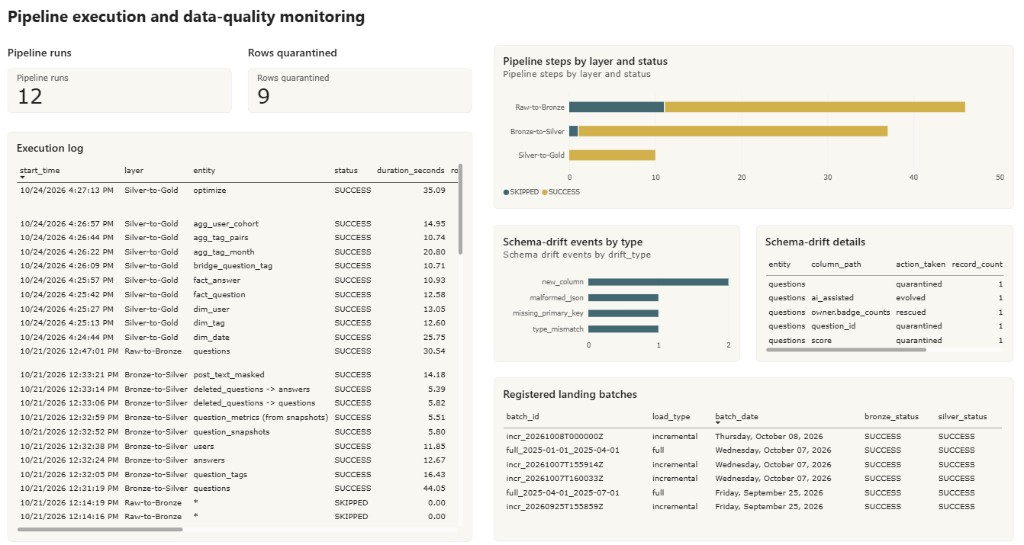

The page's visual inventory and layout, read from the dashboard file:
{"tool":"powerbi","page":{"name":"Audit","canvas":[1920,1080],"ordinal":4},"visuals":[{"type":"textbox","box":[40,18,1840,58],"z":1},{"type":"cardVisual","title":"Pipeline runs","fields":{"Data":["Measures (2).Pipeline runs"]},"box":[40,90,410,125],"z":2},{"type":"cardVisual","title":"Rows quarantined","fields":{"Data":["Measures (2).Rows quarantined"]},"box":[480,90,410,125],"z":3},{"type":"barChart","title":"Pipeline steps by layer and status","fields":{"Category":["pipeline_execution_logs.layer"],"Series":["pipeline_execution_logs.status"],"Y":["Measures (2).Pipeline steps"]},"box":[930,90,950,300],"z":4},{"type":"tableEx","title":"Execution log","fields":{"Values":["pipeline_execution_logs.start_time","pipeline_execution_logs.layer","pipeline_execution_logs.entity","pipeline_execution_logs.status","pipeline_execution_logs.duration_seconds","pipeline_execution_logs.rows_read","pipeline_execution_logs.rows_inserted","pipeline_execution_logs.rows_updated","pipeline_execution_logs.rows_deleted","pipeline_execution_logs.rows_quarantined","pipeline_execution_logs.message"]},"box":[40,250,850,750],"z":5},{"type":"clusteredBarChart","title":"Schema-drift events by type","fields":{"Category":["schema_drift_events.drift_type"],"Y":["Measures (2).Schema drift events"]},"box":[930,420,450,250],"z":6},{"type":"tableEx","title":"Schema-drift details","fields":{"Values":["schema_drift_events.entity","schema_drift_events.column_path","schema_drift_events.action_taken","schema_drift_events.record_count","schema_drift_events.example_value"]},"box":[1410,420,470,250],"z":7},{"type":"tableEx","title":"Registered landing batches","fields":{"Values":["batch_registry.batch_id","batch_registry.load_type","batch_registry.batch_date","batch_registry.bronze_status","batch_registry.silver_status"]},"box":[930,700,950,300],"z":8},{"type":"textbox","box":[40,1040,1840,26],"z":99}]}

Visuals, with their boxes on the page's 1920x1080 design canvas (x1, y1, x2, y2). These are canvas units, not pixel positions in the 1024x545 screenshot, which may show the page scaled, cropped or inside an application window:
textbox: [40, 18, 1880, 76]
"Pipeline runs" cardVisual: [40, 90, 450, 215]
"Rows quarantined" cardVisual: [480, 90, 890, 215]
"Pipeline steps by layer and status" barChart: [930, 90, 1880, 390]
"Execution log" tableEx: [40, 250, 890, 1000]
"Schema-drift events by type" clusteredBarChart: [930, 420, 1380, 670]
"Schema-drift details" tableEx: [1410, 420, 1880, 670]
"Registered landing batches" tableEx: [930, 700, 1880, 1000]
textbox: [40, 1040, 1880, 1066]
